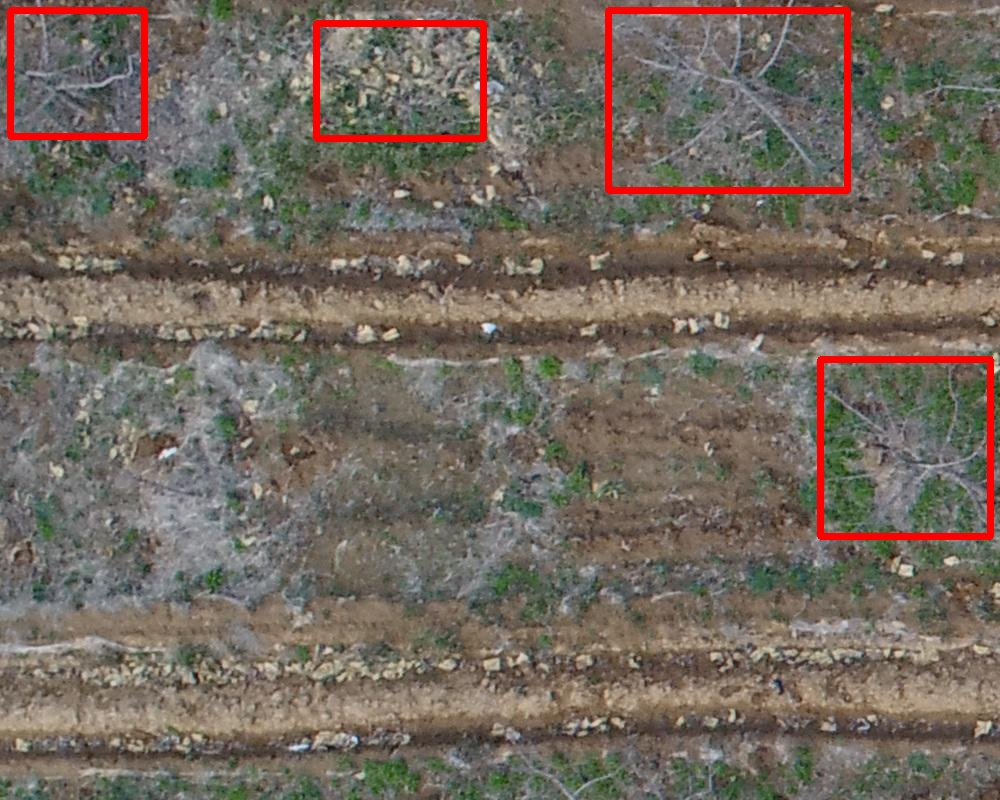apple: (608, 10, 847, 190), (820, 359, 990, 536), (316, 23, 483, 138), (10, 10, 144, 136)
